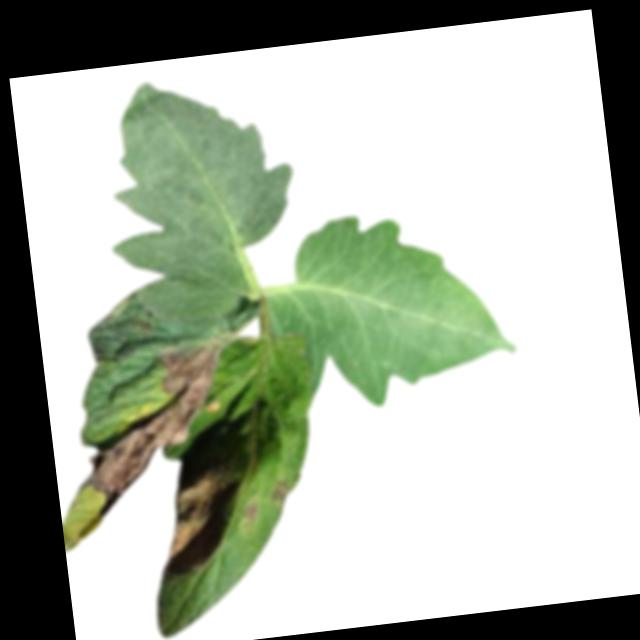Late_blight: (68, 340, 244, 515), (153, 453, 245, 577), (240, 498, 263, 538), (268, 480, 295, 505)
